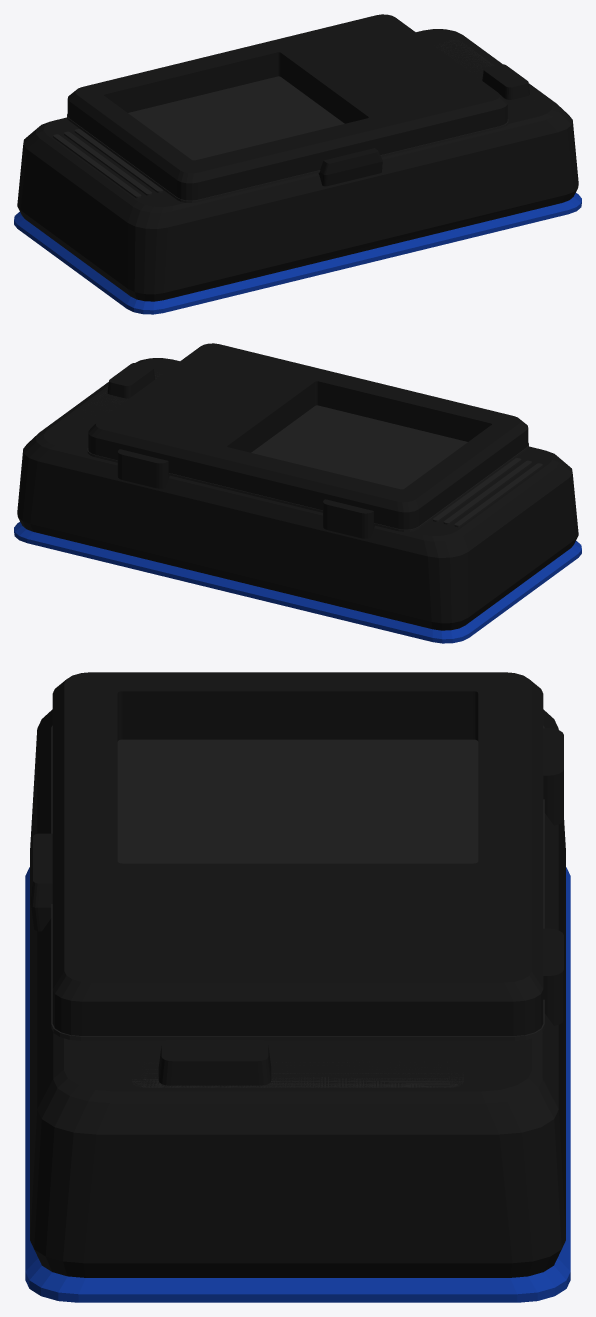
The model's file is tape-rewinder.glb.
3 views of the same model, one above another, from view 1: azimuth 30°, elevation 25°; view 2: azimuth 150°, elevation 25°; view 3: azimuth 270°, elevation 25° (orthographic). The views are drawn at different scales.
Parts seen in each view (by area): view 1: Tape rewinder shell assembly; view 2: Tape rewinder shell assembly; view 3: Tape rewinder shell assembly.
Part boxes in pixels (x1,y1,x2,y2): Tape rewinder shell assembly: (14, 14, 581, 314); Tape rewinder shell assembly: (14, 343, 581, 643); Tape rewinder shell assembly: (25, 672, 570, 1302).
Size of the model in its own units: 0.88 by 0.248 by 0.46.
